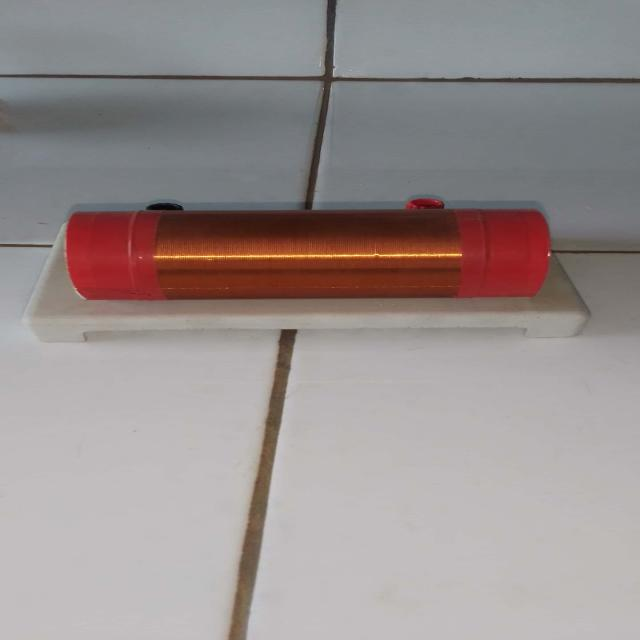Solenoid: (25, 192, 571, 327)
